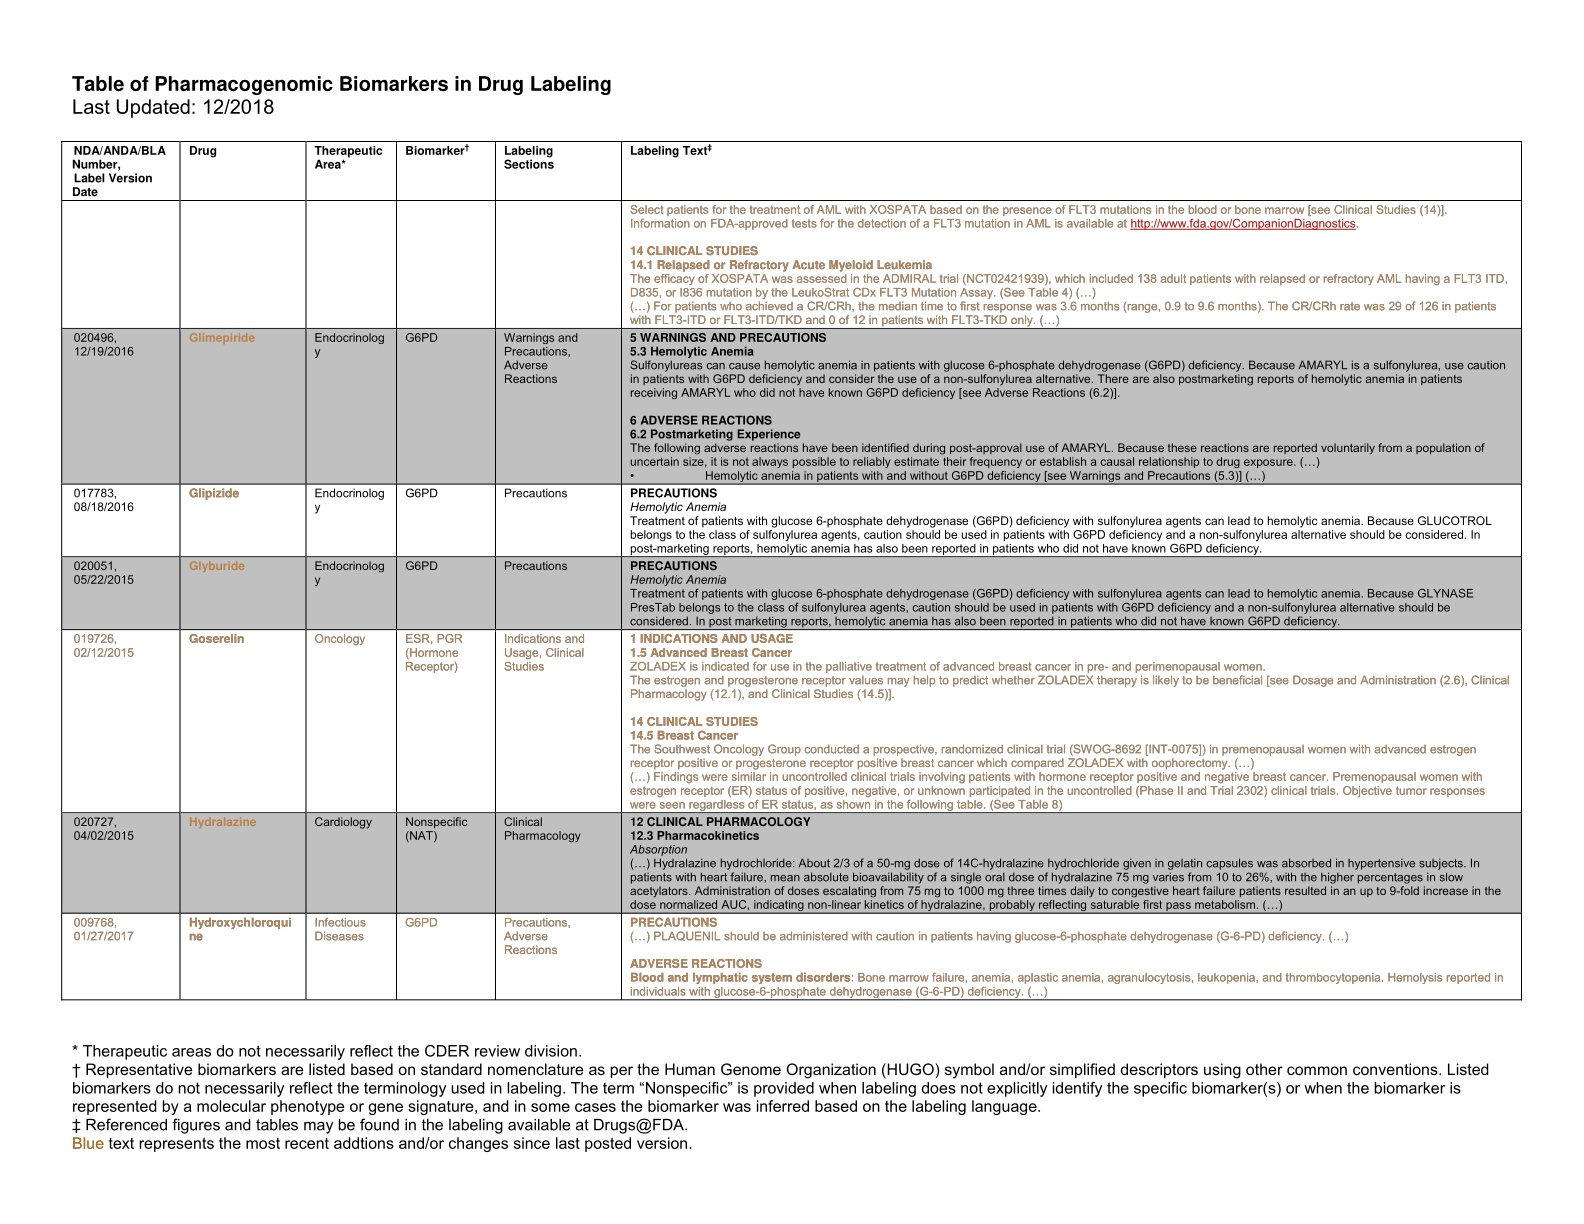full_lined: (60, 140, 1522, 1002)
